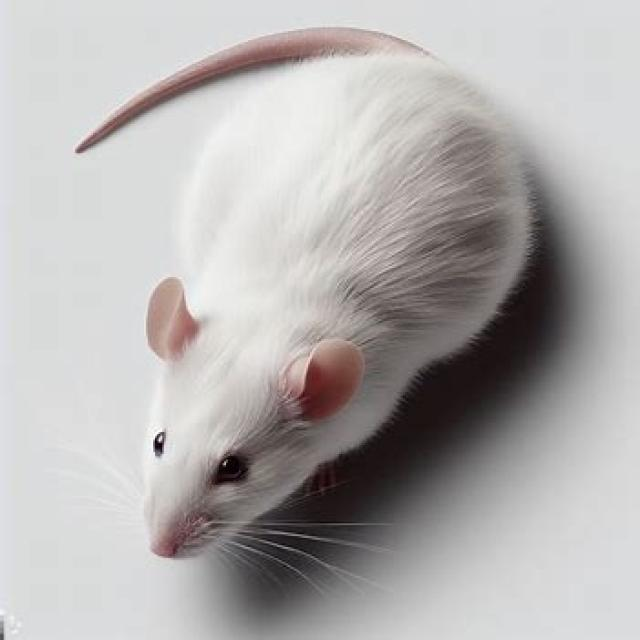rodent: (123, 40, 556, 579)
